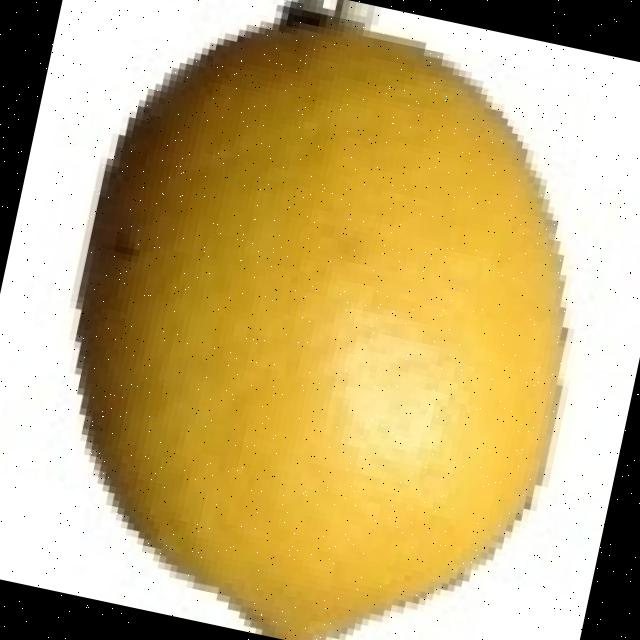lemon: (76, 11, 562, 640)
